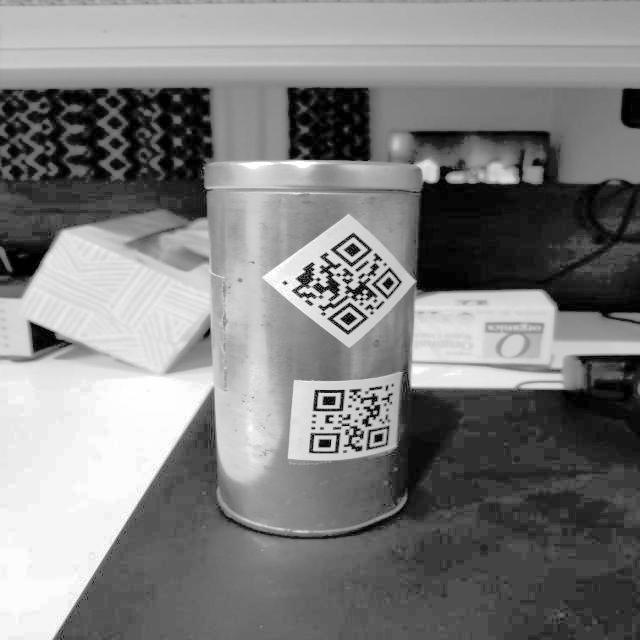qr_code: (270, 221, 414, 343), (298, 376, 409, 461)
